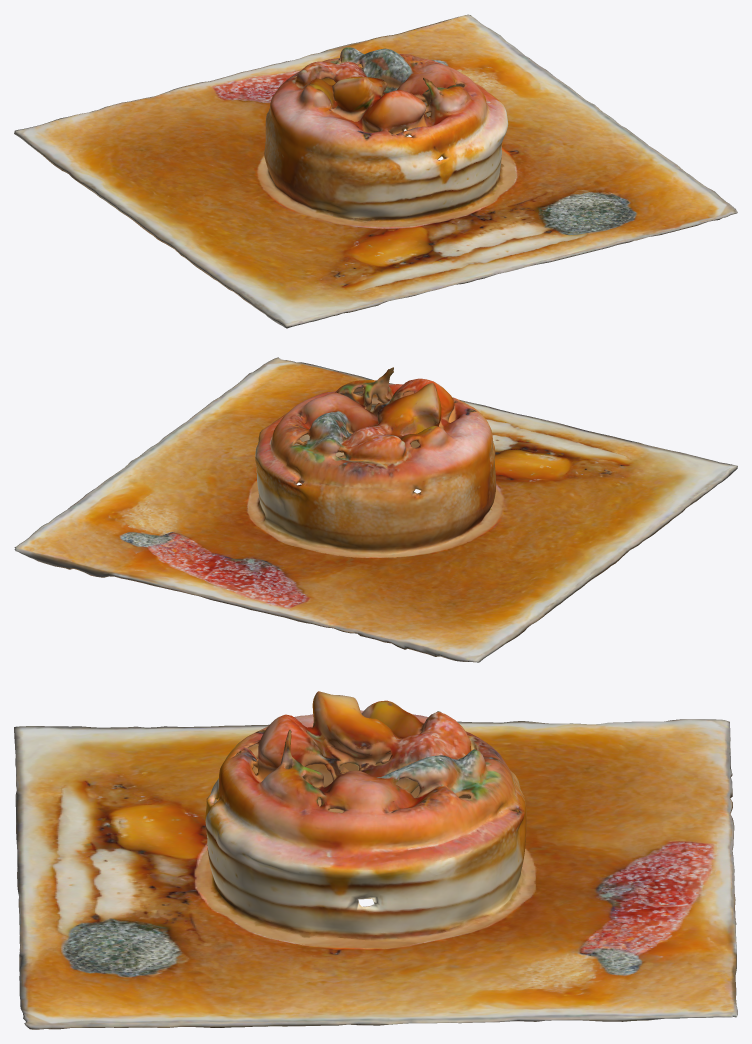
The model's file is Panquque.glb.
3 renders of one model, top to bottom at view 1: azimuth 30°, elevation 25°; view 2: azimuth 150°, elevation 25°; view 3: azimuth 270°, elevation 25°, orthographic. The views are drawn at different scales.
Size of the model in its own units: 1.99 by 0.507 by 2.
1 material, 1 textured.
